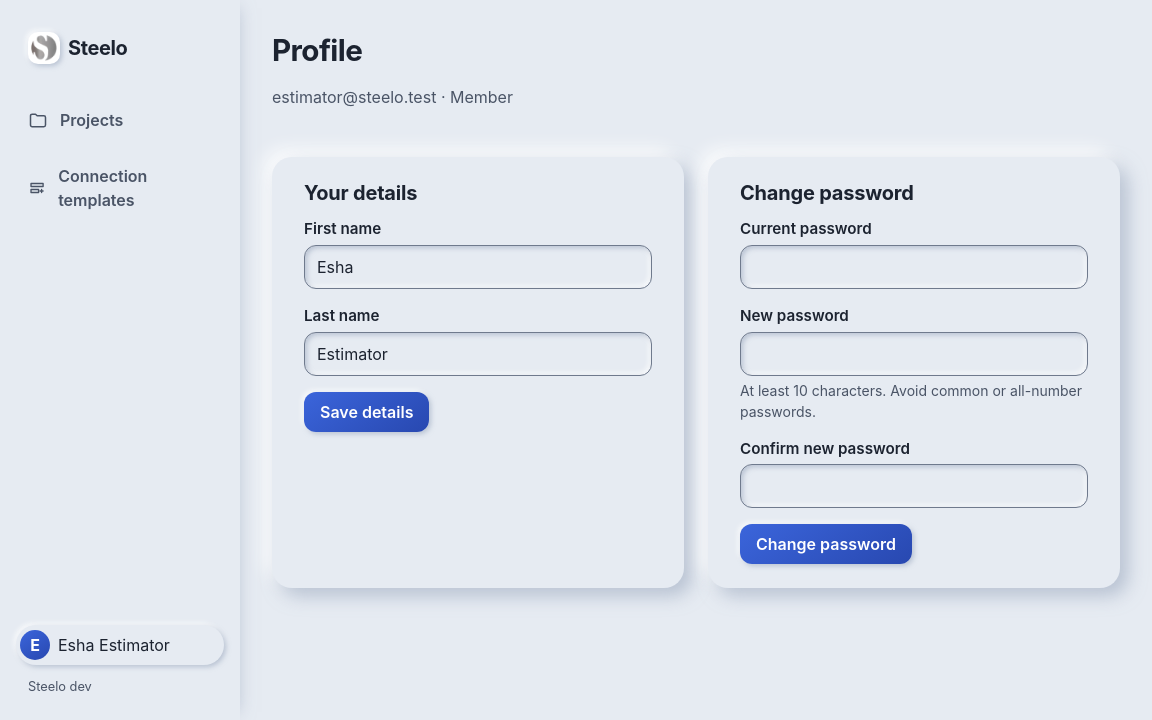
Test case: Profile › shows a wrong current password next to the field
Expected: the heading "Change password" is shown, [740,181,914,205]
In the password field labelled "Current password": [914, 267] box [740,245,1088,289], type "not-my-password"
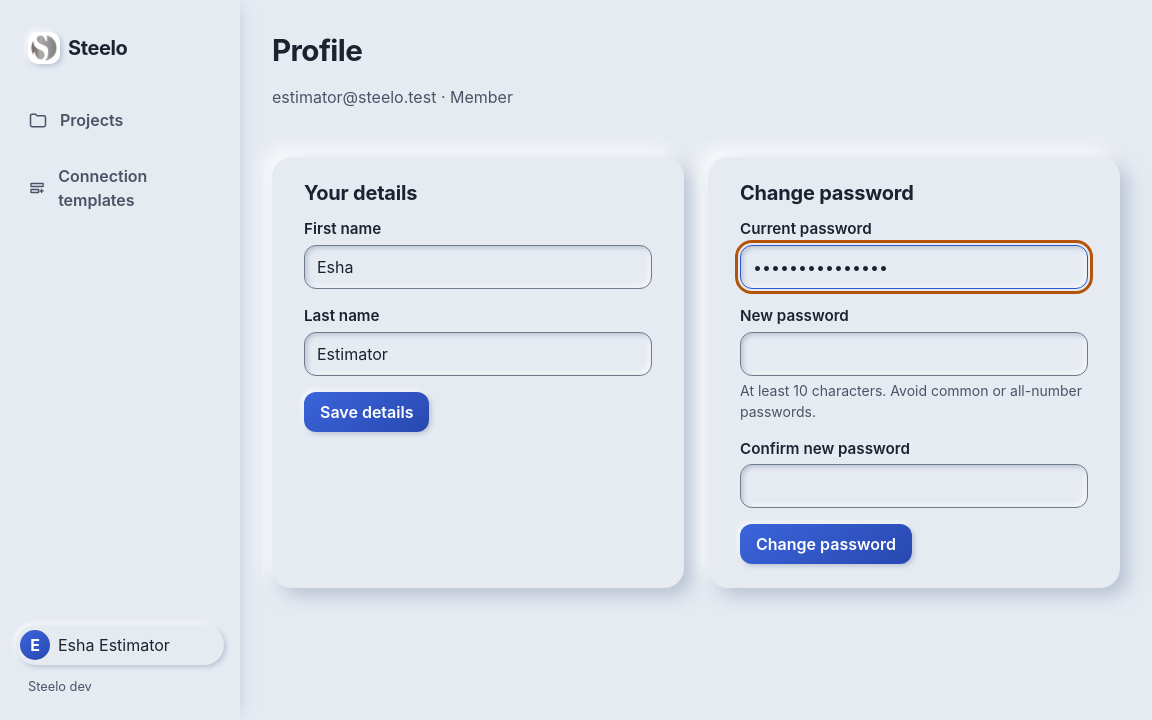
In the password field labelled "New password": [914, 354] box [740,332,1088,376], type "new-password-123"
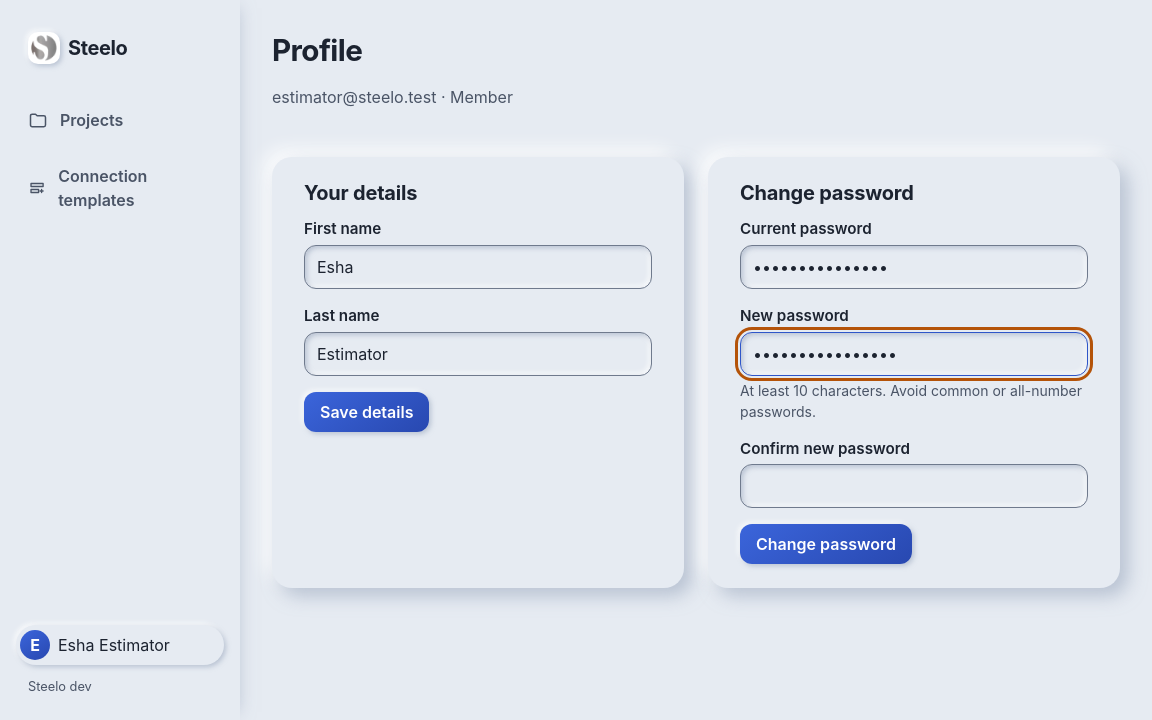
In the password field labelled "Confirm new password": [914, 486] box [740,464,1088,508], type "new-password-123"
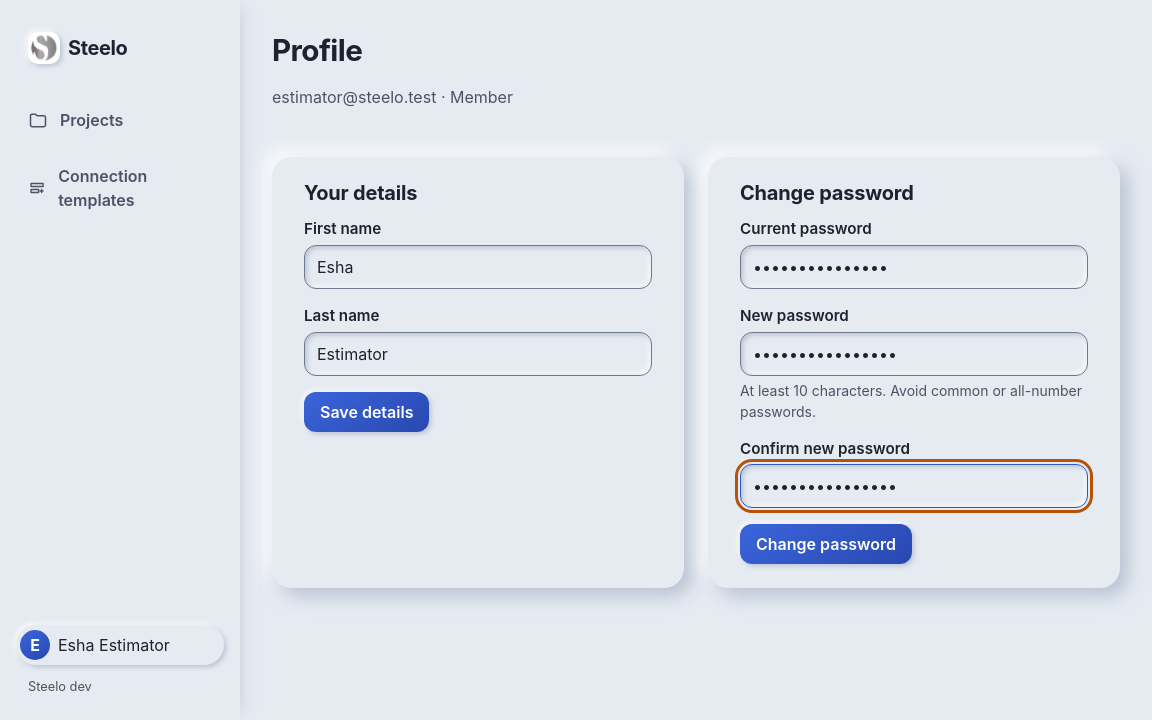
Click the button "Change password": [826, 544] box [740,524,912,564]
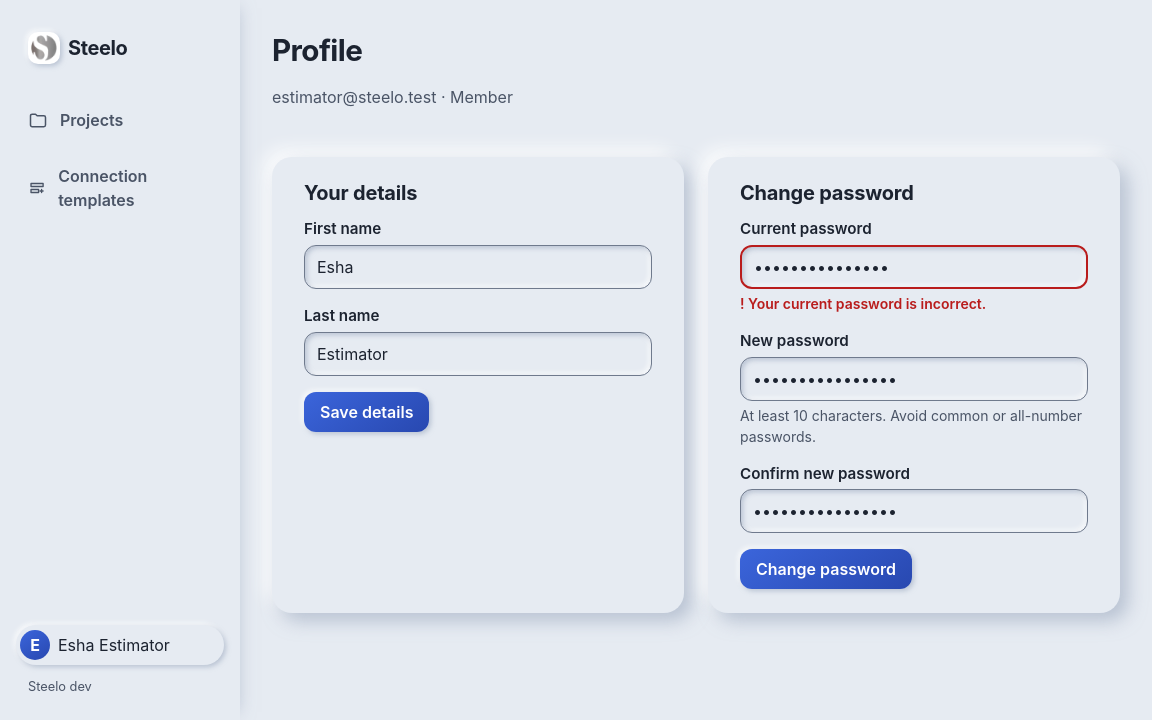
Expected: the text "Your current password is incorrect." is shown, [748,295,986,312]
